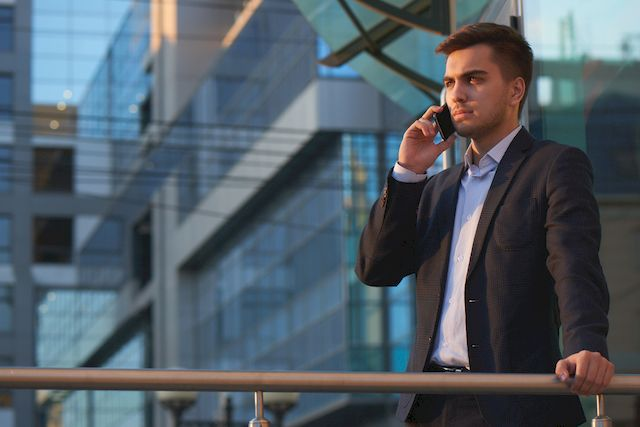phone: (420, 106, 457, 137)
talk: (395, 61, 502, 168)
